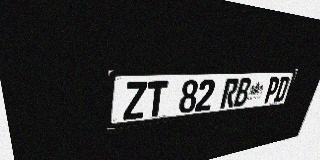2: (195, 79, 216, 112)
8: (178, 79, 200, 114)
B: (233, 78, 252, 107)
D: (273, 76, 290, 102)
P: (263, 77, 281, 103)
R: (219, 78, 240, 109)
T: (145, 81, 168, 118)
Z: (123, 81, 147, 120)
